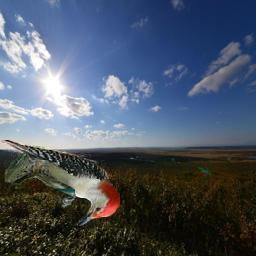Woodpecker: (0, 140, 120, 226)
